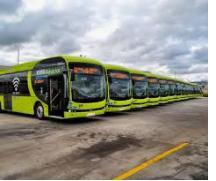bus: (2, 55, 108, 119)
